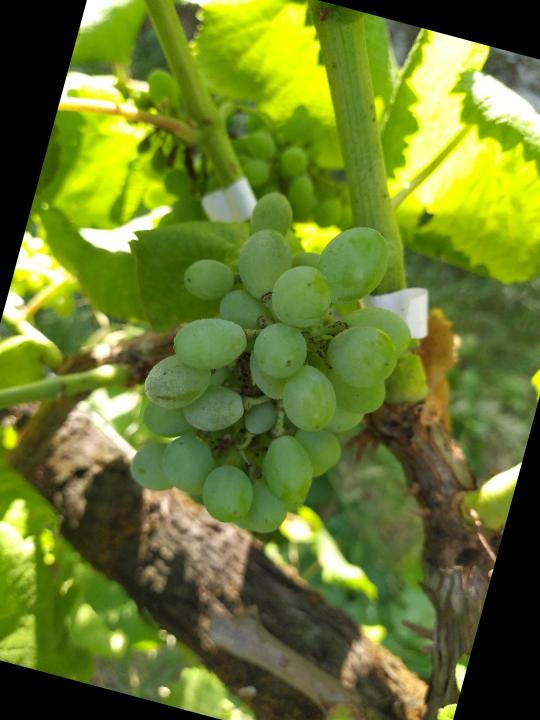grape: (109, 168, 446, 569)
